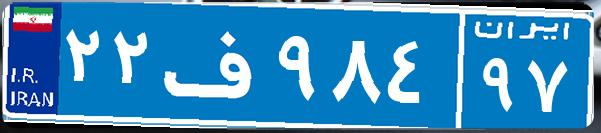2: (57, 26, 110, 107), (110, 28, 158, 105)
4: (385, 28, 445, 110)
7: (525, 38, 570, 115)
8: (330, 28, 385, 110)
9: (273, 28, 330, 110), (475, 38, 525, 113)
ف: (158, 15, 273, 115)
